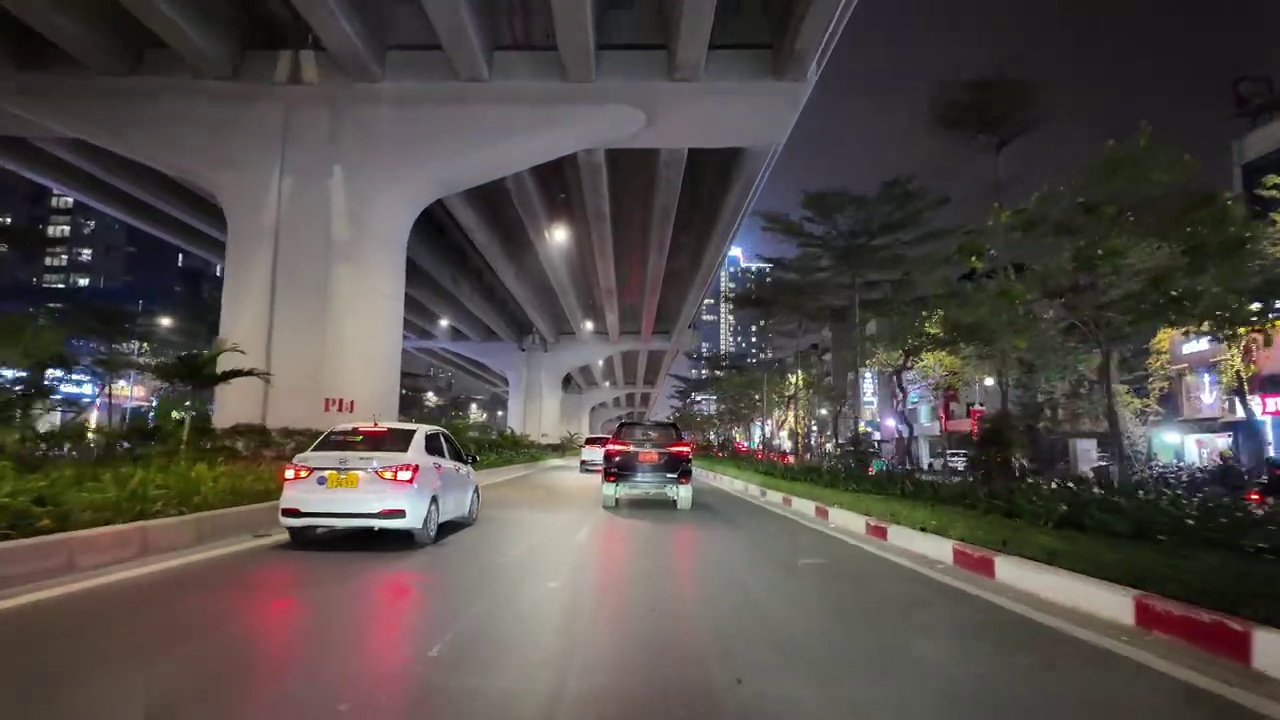acesa: (543, 222, 572, 250)
